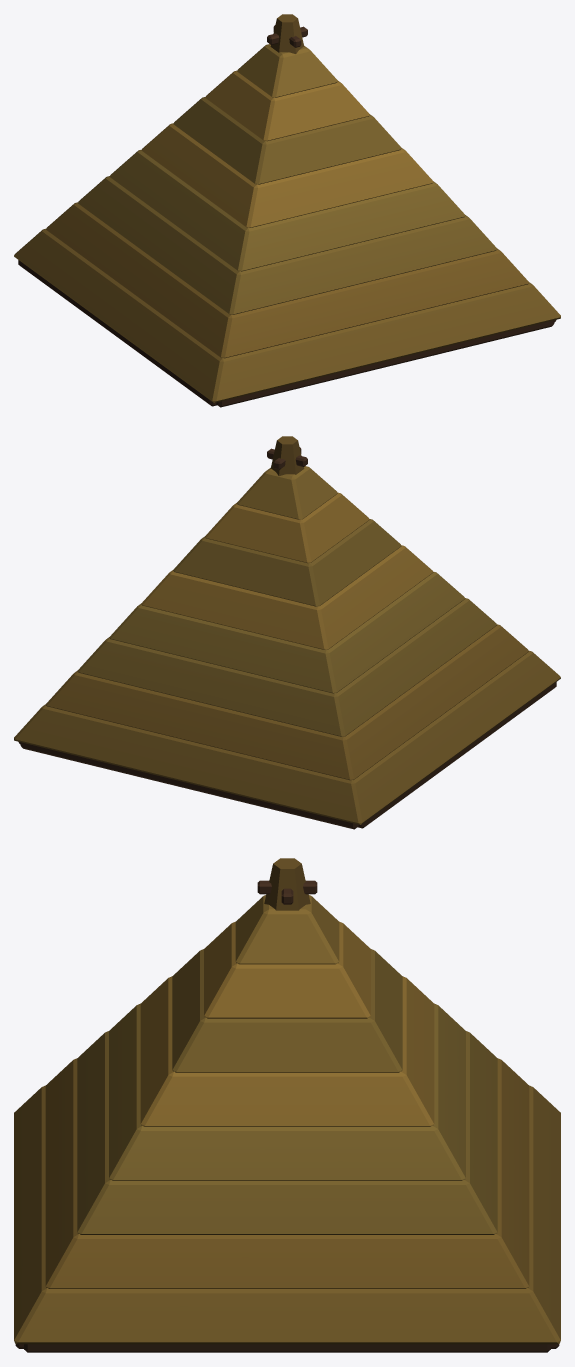
File: piece_thatchcap.glb
3 renders of one model, top to bottom at view 1: azimuth 30°, elevation 25°; view 2: azimuth 150°, elevation 25°; view 3: azimuth 270°, elevation 25°, orthographic. The views are drawn at different scales.
Visible parts, largest first — view 1: Base; view 2: Base; view 3: Base.
Boxes of the visible parts, x1,y1,x2,y2 form: Base: (14,14,560,407); Base: (14,436,560,829); Base: (14,858,560,1352).
Bounding box in the file's own units: 4.57 × 3.46 × 4.57.
